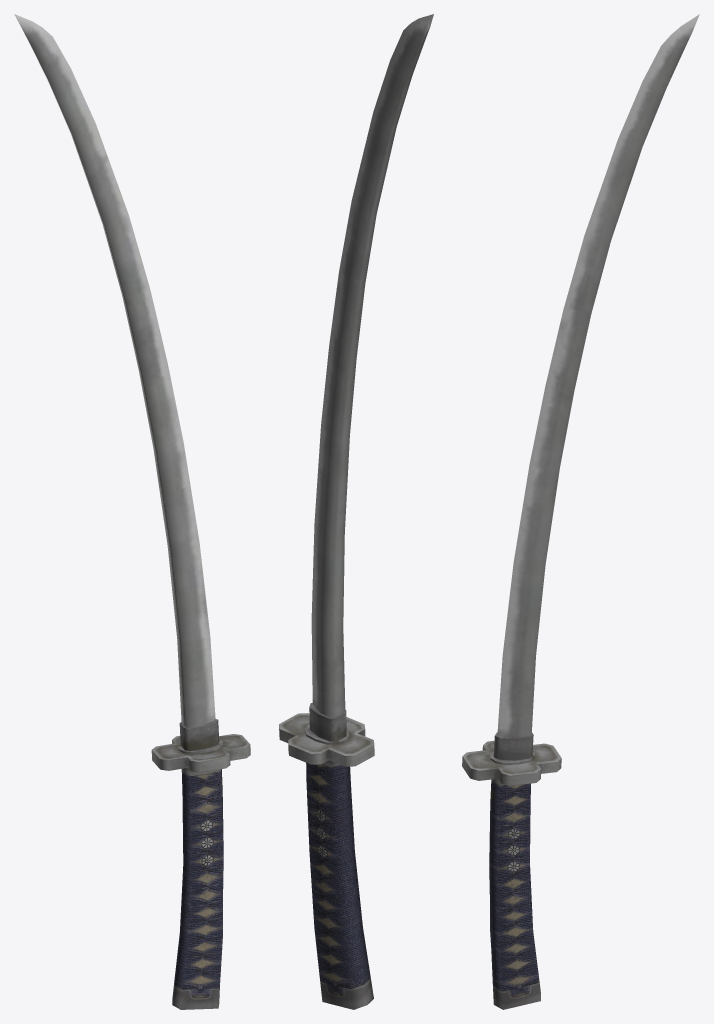
File: weapon-mediumdojosoldiers.glb
The picture shows the model from 3 angles, left to right: view 1: azimuth 90°, elevation 25°; view 2: azimuth 210°, elevation 25°; view 3: azimuth 270°, elevation 25°; orthographic projection. The views are drawn at different scales.
Bounding box in the file's own units: 0.1032 × 1.41 × 0.3058.
Materials: 1 (1 with a texture image).
